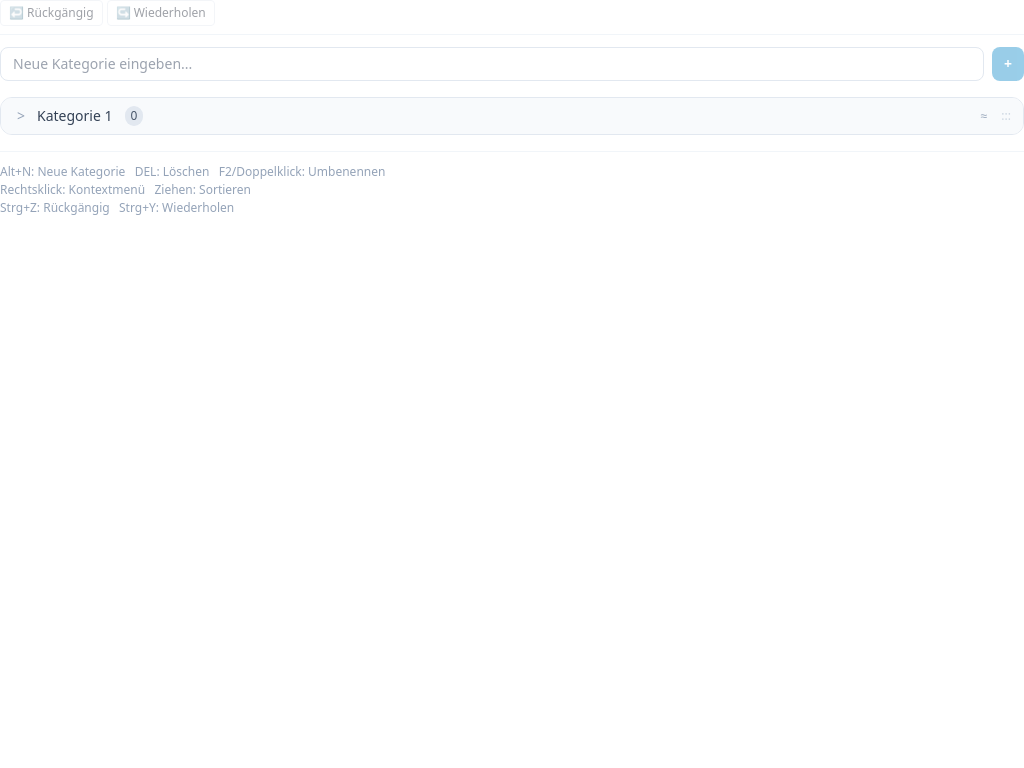
Test: CategoryTree - Legacy-DataClassDialog entfernt (Tech-Debt-Cleanup, Sprint 10 Aufg. 7) › oeffnet ueber das Kontextmenue 'Datenklasse anwenden...' weiterhin den DataNode-Baum-Dialog (REQ-4018)
The width and height of the screenshot is (1024, 768).
Right-click the text "Kategorie 1": (75,116) [37,106,112,126]
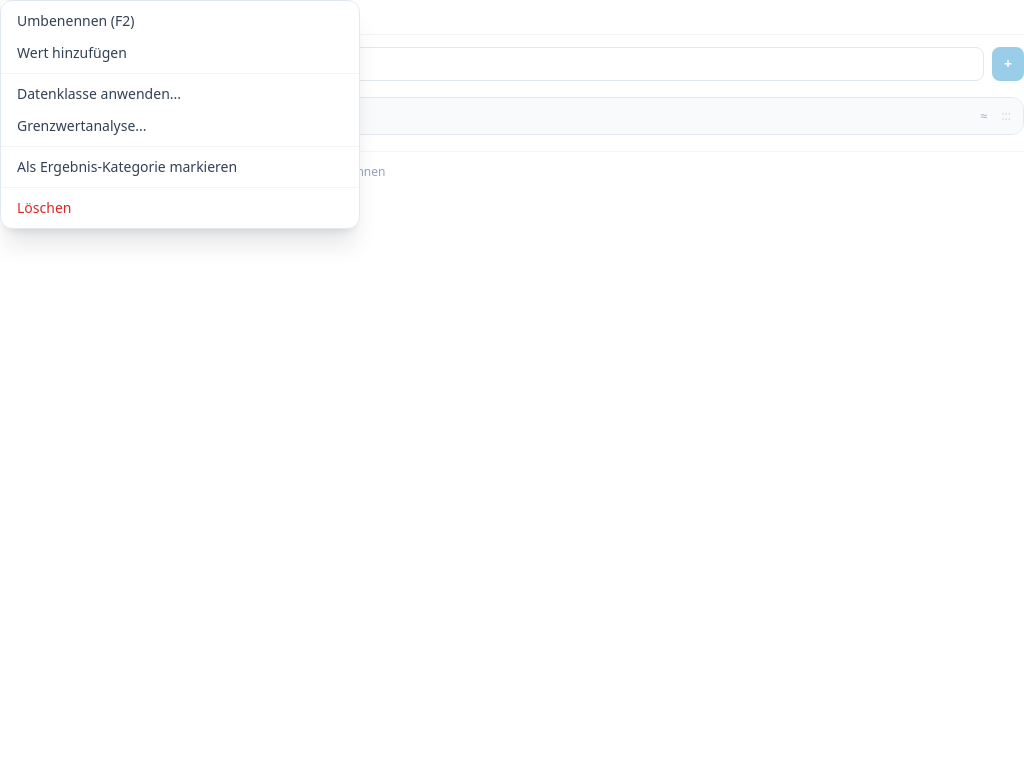
Click the button "Datenklasse anwenden...": (180,94) [1,78,359,110]
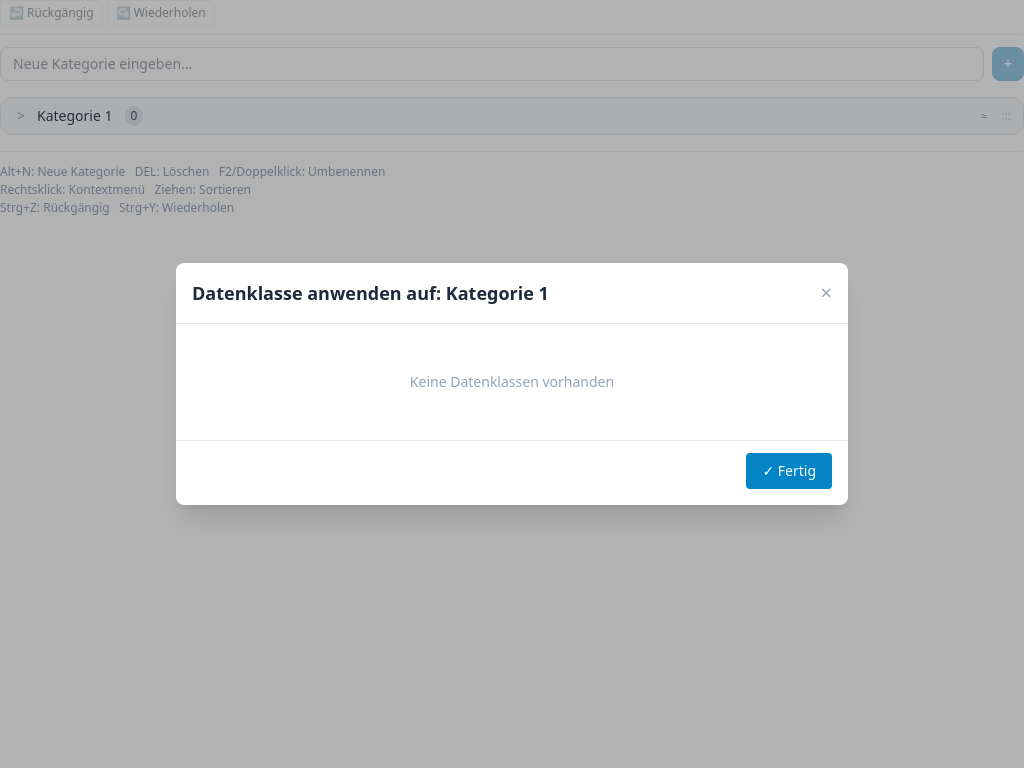
Result: the heading "Datenklasse anwenden auf: Kategorie 1" is shown at [192,279,549,307]
